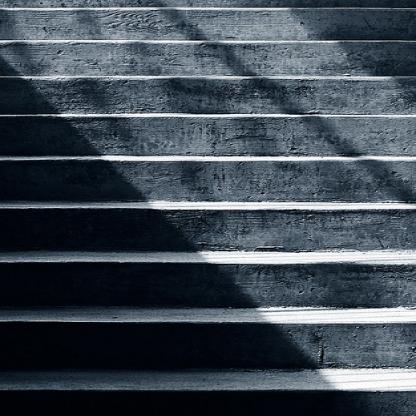stairs: (5, 2, 416, 416)
